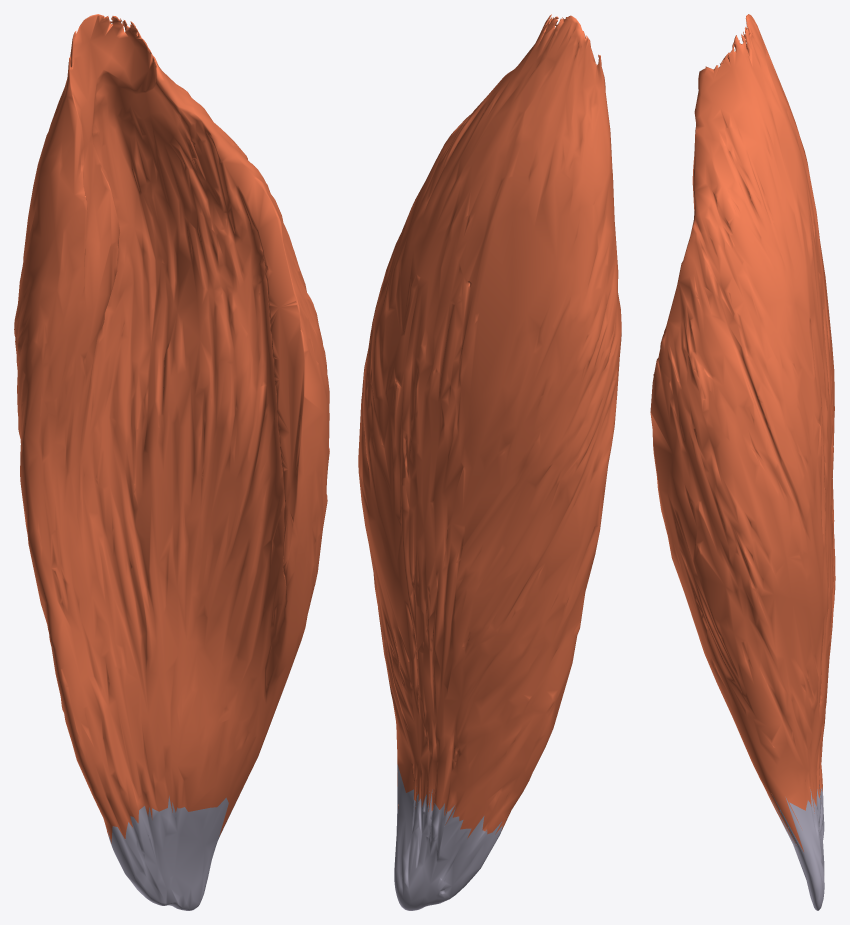
The model's file is Soleus_muscle.r_Generated_Mesh_From_X3D.212.glb.
The picture shows the model from 3 angles, left to right: view 1: azimuth 30°, elevation 25°; view 2: azimuth 150°, elevation 25°; view 3: azimuth 270°, elevation 25°; orthographic projection. The views are drawn at different scales.
Visible parts, largest first — view 1: Soleus_muscle.r_Generated_Mesh_From_X3D.212; view 2: Soleus_muscle.r_Generated_Mesh_From_X3D.212; view 3: Soleus_muscle.r_Generated_Mesh_From_X3D.212.
Boxes of the visible parts, bbox=[...] form: Soleus_muscle.r_Generated_Mesh_From_X3D.212: bbox=[14, 14, 329, 910]; Soleus_muscle.r_Generated_Mesh_From_X3D.212: bbox=[358, 14, 621, 910]; Soleus_muscle.r_Generated_Mesh_From_X3D.212: bbox=[650, 14, 835, 910].
Size of the model in its own units: 0.0852 by 0.2757 by 0.0552.
